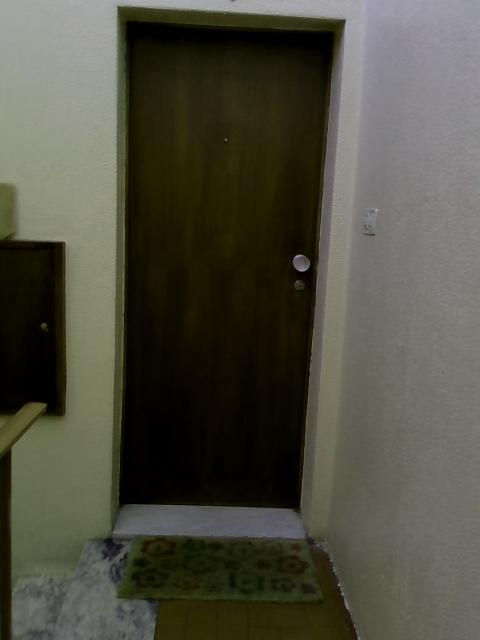closed_door: (113, 4, 345, 510)
